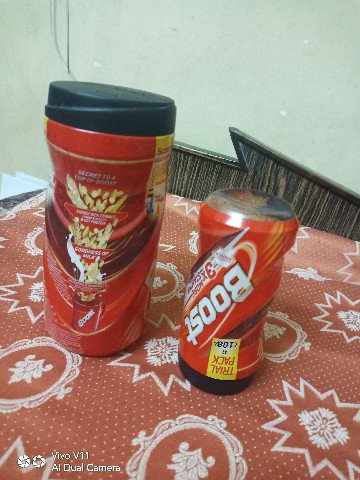boost big: (31, 53, 180, 374)
boost small: (176, 178, 310, 394)
